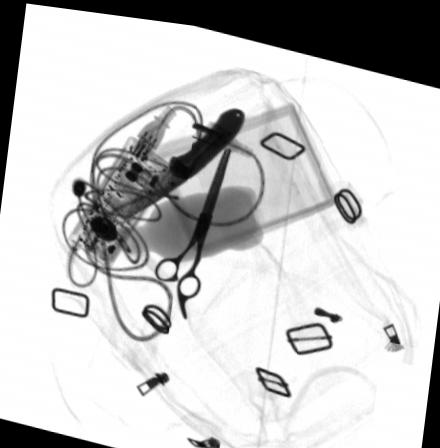Knife: (134, 101, 245, 211)
Scissors: (151, 141, 233, 313)
